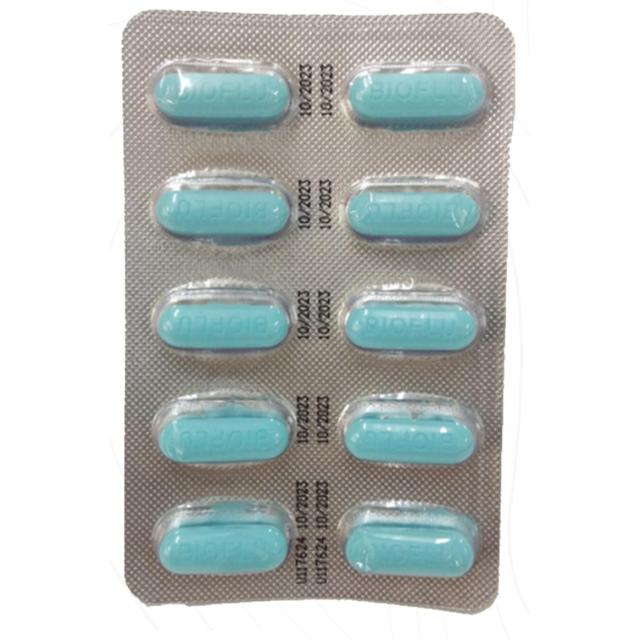blister: (119, 4, 515, 628)
